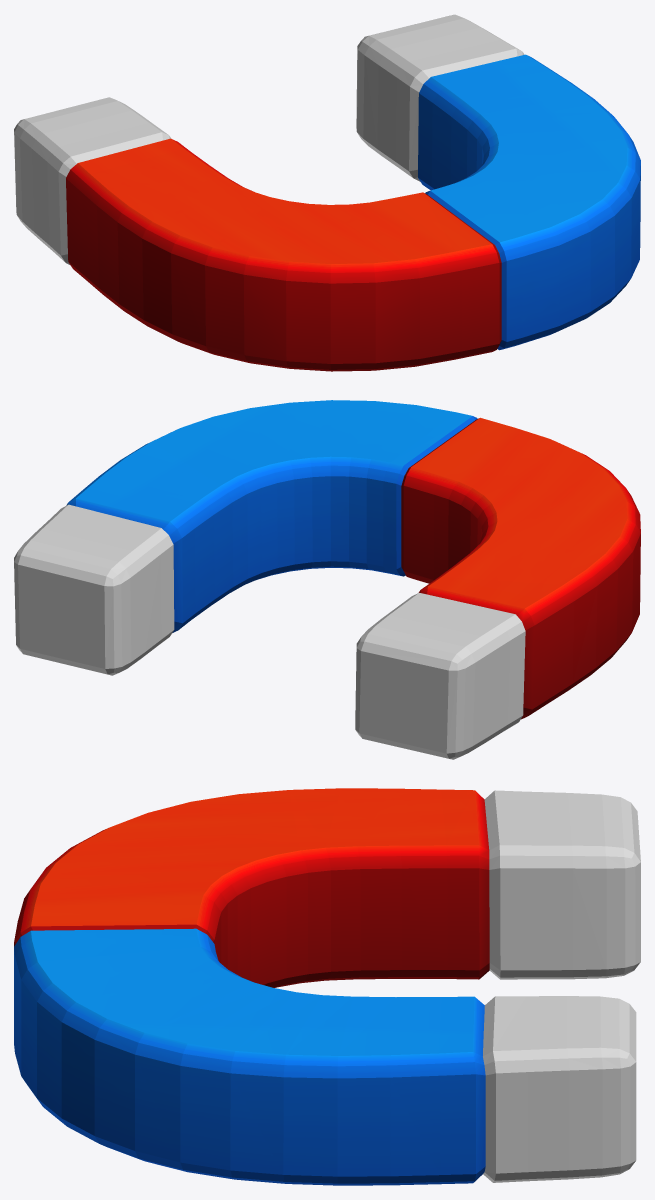
Rendered from Magnet.fbx.
3 views of the same model, one above another, from view 1: azimuth 30°, elevation 25°; view 2: azimuth 150°, elevation 25°; view 3: azimuth 270°, elevation 25° (orthographic). The views are drawn at different scales.
Parts seen in each view (by area): view 1: Magnet; view 2: Magnet; view 3: Magnet.
Part boxes in pixels (bbox=[...]): Magnet: bbox=[14, 14, 640, 371]; Magnet: bbox=[14, 400, 640, 759]; Magnet: bbox=[14, 788, 640, 1185].
Size of the model in its own units: 12.05 by 2.67 by 11.37.
Materials: 1 (1 with a texture image).
